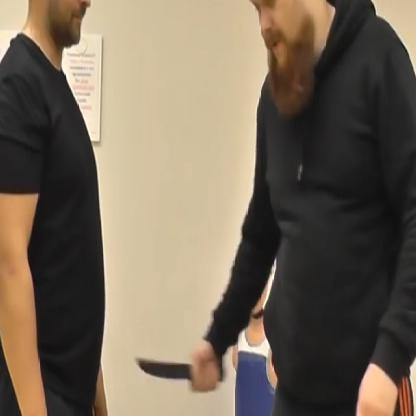knife: (130, 340, 229, 401)
